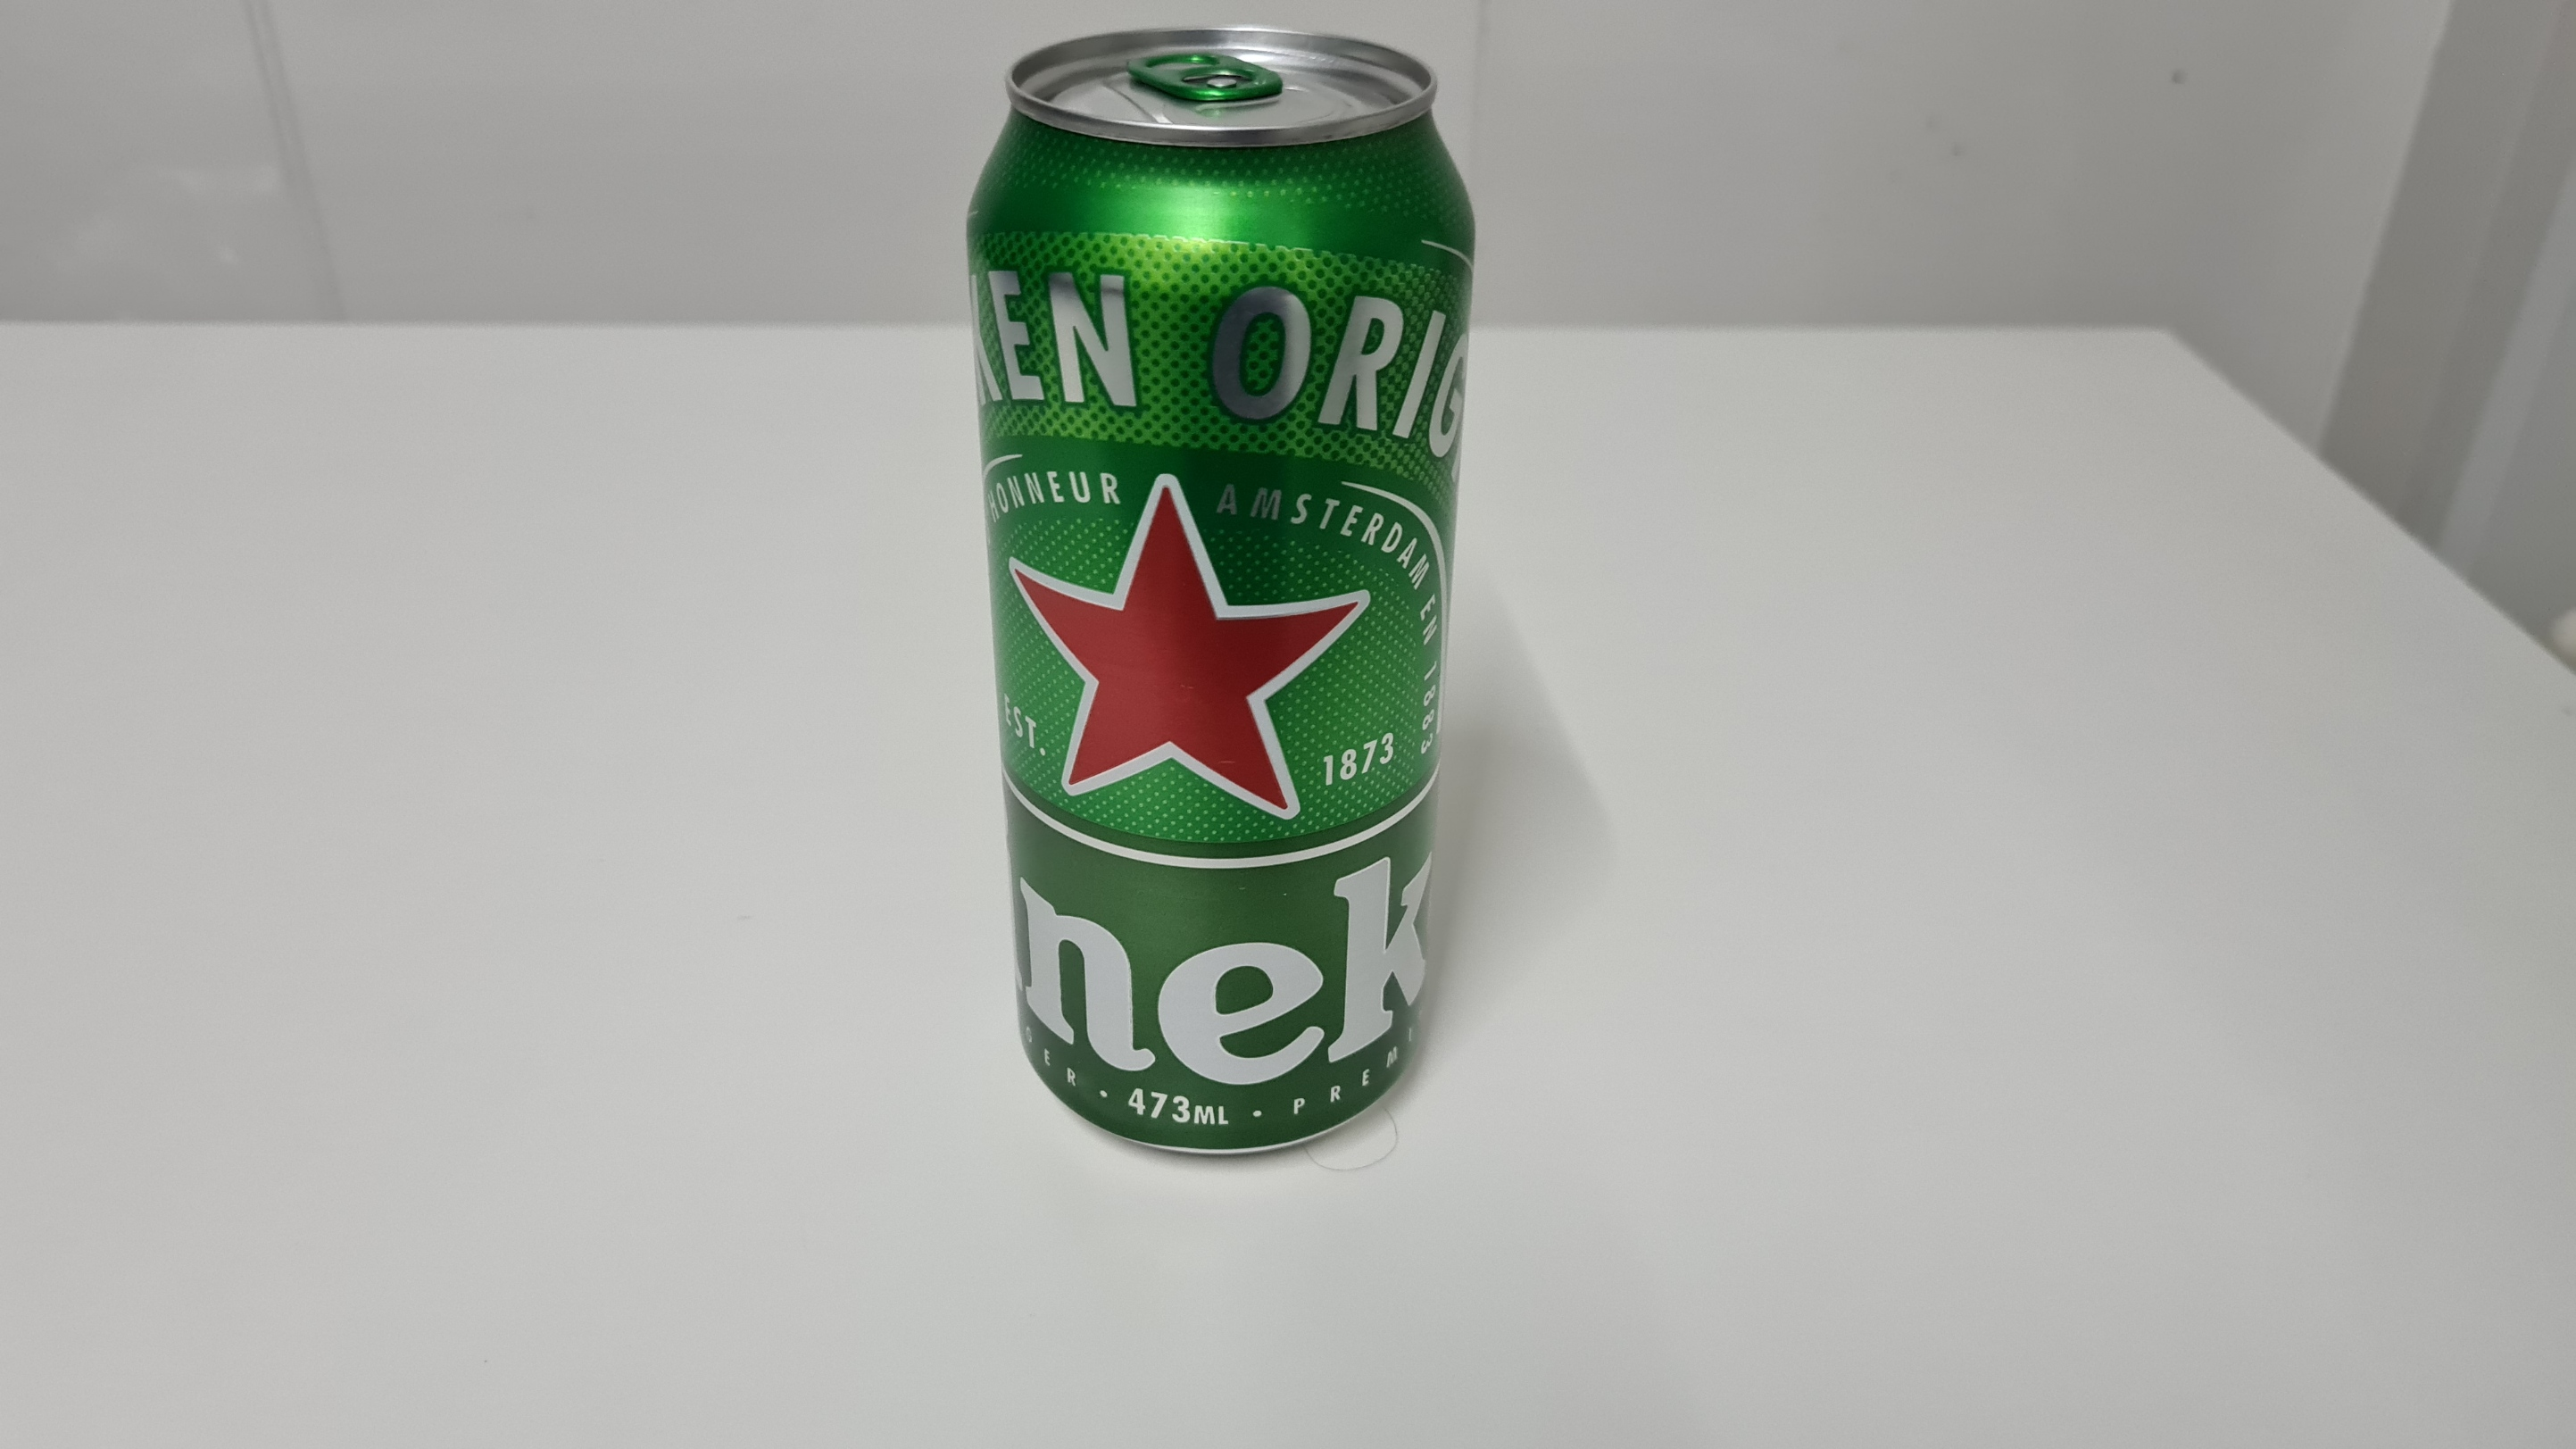Beer can: (949, 21, 1493, 1162)
